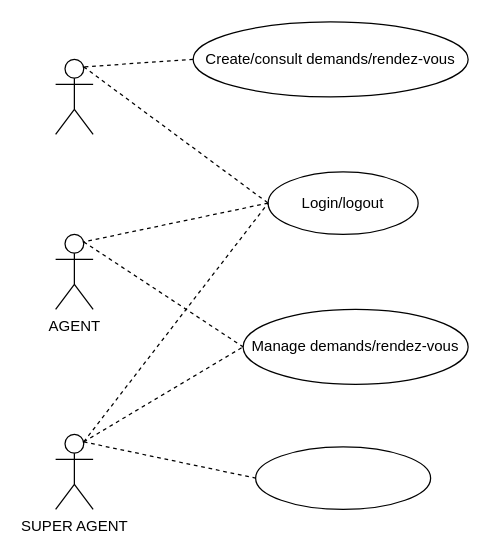
Image size: 490x558. Some labels were removed from this diagram. Each missing label, with the box of its shape:
APPLICANT: (54, 58, 93, 134)
Manage agents: (254, 446, 431, 509)
